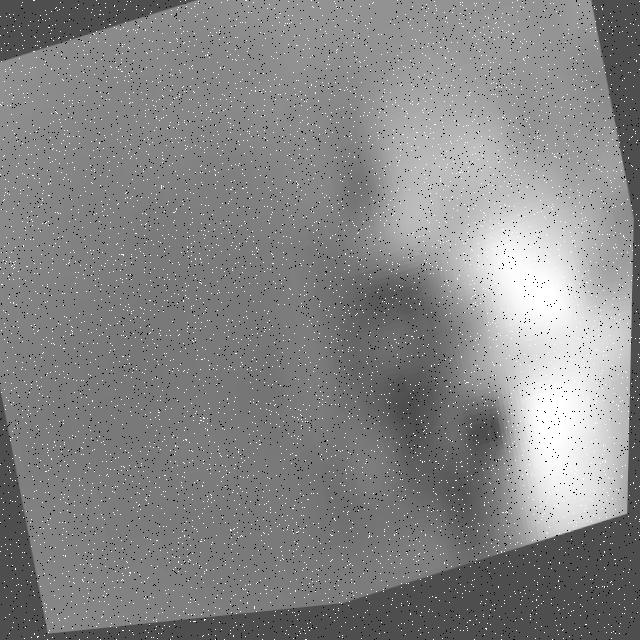person: (315, 1, 640, 590)
